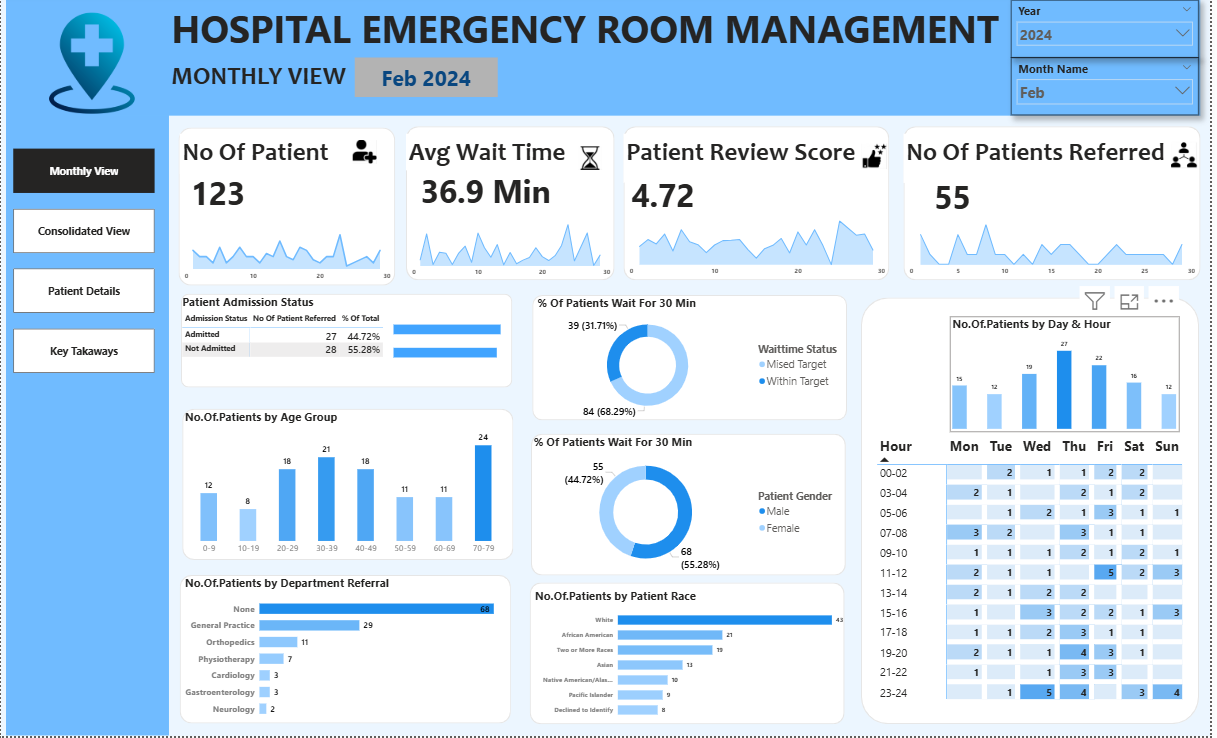

The dashboard page shown, as its layout file describes it:
{"tool":"powerbi","page":{"name":"Monthly View","canvas":[2300,1400],"ordinal":0},"visuals":[{"type":"shape","box":[10,0,310,1399],"z":0},{"type":"shape","box":[202.2,0,2079.2,220.4],"z":1000},{"type":"textbox","box":[319.4,0,1604.9,109.9],"z":2000},{"type":"textbox","box":[319.4,109.9,493.2,109.9],"z":3000},{"type":"shape","box":[337,243.7,412.2,300.7],"z":4000},{"type":"slicer","fields":{"Values":["Date Table.Year"]},"box":[1921.2,0,356.7,109.4],"z":5000},{"type":"slicer","fields":{"Values":["Date Table.Month Name"]},"box":[1921.2,109.4,356.7,109.4],"z":6000},{"type":"card","fields":{"Values":["hospital data.No.Of.Patients"]},"box":[337,326,150.4,77.8],"z":7000},{"type":"textbox","box":[339.6,254.1,313.7,75.2],"z":8000},{"type":"areaChart","fields":{"Category":["Date Table.Date.Variation.Date Hierarchy.Day"],"Y":["hospital data.No.Of.Patients"]},"box":[337.6,409,411.3,133.2],"z":9000},{"type":"card","fields":{"Values":["Min(Date Table.Month & Year)"]},"box":[674,108.9,272.2,75.2],"z":10000},{"type":"shape","box":[770,241.1,396.6,292.9],"z":11000},{"type":"card","fields":{"Values":["hospital data.Avg Waiting Time"]},"box":[770,329.2,303.3,64.8],"z":12000},{"type":"textbox","box":[770,254.1,326.7,70],"z":13000},{"type":"areaChart","fields":{"Y":["Avg(hospital data.Patient Waittime)"],"Category":["Date Table.Date.Variation.Date Hierarchy.Day"]},"box":[770,388.9,396.6,145.2],"z":14000},{"type":"shape","box":[1184.8,241.1,505.5,292.9],"z":15000},{"type":"card","fields":{"Values":["hospital data.P. Review Score"]},"box":[1184.8,329.2,150.4,77.8],"z":16000},{"type":"textbox","box":[1184.1,254.4,451.8,92.7],"z":17000},{"type":"areaChart","fields":{"Category":["Date Table.Date.Variation.Date Hierarchy.Day"],"Y":["hospital data.P. Review Score"]},"box":[1184.8,407,505.5,127],"z":18000},{"type":"shape","box":[1716.2,241.1,565.2,292.9],"z":19000},{"type":"card","fields":{"Values":["hospital data.No Of Patient Referred"]},"box":[1716.2,331.8,186.7,77.8],"z":20000},{"type":"textbox","box":[1716.2,254.1,502.9,93.3],"z":21000},{"type":"areaChart","fields":{"Category":["Date Table.Date.Variation.Date Hierarchy.Day"],"Y":["hospital data.No Of Patient Referred"]},"box":[1716.2,414.8,562.6,119.3],"z":22000},{"type":"shape","box":[342.4,558.8,630.1,178.3],"z":23000},{"type":"pivotTable","title":"Patient Admission Status ","fields":{"Rows":["hospital data.Admission Status"],"Values":["hospital data.No Of Patient Referred","hospital data.No.Of.Patients"]},"box":[340,558.8,627.7,171.2],"z":24000},{"type":"barChart","fields":{"Category":["hospital data.Admission Status"],"Y":["hospital data.No Of Patient Referred"]},"box":[741.9,582.5,228.3,128.4],"z":25000},{"type":"shape","box":[344.8,777.7,630,287.8],"z":26000},{"type":"clusteredColumnChart","fields":{"Category":["hospital data.Age Group"],"Y":["hospital data.No.Of.Patients"]},"box":[344.8,777.5,625.3,287.7],"z":27000},{"type":"shape","box":[339.6,1094,630,282.6],"z":28000},{"type":"clusteredBarChart","fields":{"Y":["hospital data.No.Of.Patients"],"Category":["hospital data.Department Referral"]},"box":[344.8,1093.8,623,282.9],"z":29000},{"type":"shape","box":[1011.1,560,598.9,238.5],"z":30000},{"type":"donutChart","title":"% Of Patients Wait For 30 Min","fields":{"Y":["hospital data.No.Of.Patients"],"Category":["hospital data.Waittime Status"]},"box":[1016.2,560,593.7,238.5],"z":31000},{"type":"shape","box":[1008.5,824.4,598.9,269.6],"z":32000},{"type":"donutChart","title":"% Of Patients Wait For 30 Min","fields":{"Y":["hospital data.No.Of.Patients"],"Category":["hospital data.Patient Gender"]},"box":[1008.5,824.4,593.7,269.6],"z":33000},{"type":"shape","box":[1005.9,1107,598.9,269.6],"z":34000},{"type":"clusteredBarChart","fields":{"Y":["hospital data.No.Of.Patients"],"Category":["hospital data.Patient Race"]},"box":[1011.1,1117.4,598.9,259.2],"z":35000},{"type":"shape","box":[1635.8,565.2,642.9,811.4],"z":36000},{"type":"pivotTable","fields":{"Rows":["hospital data.Waittime Interval"],"Columns":["Date Table.Day Name"],"Values":["hospital data.No.Of.Patients"]},"box":[1661.8,824.4,604,523.7],"z":37000},{"type":"columnChart","title":"No.Of.Patients by Day & Hour","fields":{"Category":["Date Table.Day Name"],"Y":["hospital data.No.Of.Patients"]},"box":[1804.4,601.5,438.1,220.4],"z":38000},{"type":"image","box":[23.3,18.1,298.1,202.2],"z":39000},{"type":"image","box":[661.1,261.8,62.2,54.4],"z":40000},{"type":"image","box":[1094,254.1,54.4,93.3],"z":41000},{"type":"image","box":[1630.7,254.1,59.6,85.6],"z":42000},{"type":"image","box":[2221.7,259.2,59.6,70],"z":43000},{"type":"pageNavigator","box":[23.8,282.9,268.7,428],"z":44000}]}

Visuals, with their boxes in screenshot pixels (x1, y1, x2, y2), scaled from the page's 2300x1400 canvas onto the 1217x738 screenshot:
shape: <bbox>5, 0, 169, 737</bbox>
shape: <bbox>107, 0, 1207, 116</bbox>
textbox: <bbox>169, 0, 1018, 58</bbox>
textbox: <bbox>169, 58, 430, 116</bbox>
shape: <bbox>178, 128, 396, 287</bbox>
slicer - Date Table.Year: <bbox>1017, 0, 1205, 58</bbox>
slicer - Date Table.Month Name: <bbox>1017, 58, 1205, 115</bbox>
card - hospital data.No.Of.Patients: <bbox>178, 172, 258, 213</bbox>
textbox: <bbox>180, 134, 346, 174</bbox>
areaChart - Date Table.Date.Variation.Date Hierarchy.Day x hospital data.No.Of.Patients: <bbox>179, 216, 396, 286</bbox>
card - Min(Date Table.Month & Year): <bbox>357, 57, 501, 97</bbox>
shape: <bbox>407, 127, 617, 281</bbox>
card - hospital data.Avg Waiting Time: <bbox>407, 174, 568, 208</bbox>
textbox: <bbox>407, 134, 580, 171</bbox>
areaChart - Avg(hospital data.Patient Waittime) x Date Table.Date.Variation.Date Hierarchy.Day: <bbox>407, 205, 617, 282</bbox>
shape: <bbox>627, 127, 894, 281</bbox>
card - hospital data.P. Review Score: <bbox>627, 174, 706, 215</bbox>
textbox: <bbox>627, 134, 866, 183</bbox>
areaChart - Date Table.Date.Variation.Date Hierarchy.Day x hospital data.P. Review Score: <bbox>627, 215, 894, 281</bbox>
shape: <bbox>908, 127, 1207, 281</bbox>
card - hospital data.No Of Patient Referred: <bbox>908, 175, 1007, 216</bbox>
textbox: <bbox>908, 134, 1174, 183</bbox>
areaChart - Date Table.Date.Variation.Date Hierarchy.Day x hospital data.No Of Patient Referred: <bbox>908, 219, 1206, 282</bbox>
shape: <bbox>181, 295, 515, 389</bbox>
"Patient Admission Status " pivotTable: <bbox>180, 295, 512, 385</bbox>
barChart - hospital data.Admission Status x hospital data.No Of Patient Referred: <bbox>393, 307, 513, 375</bbox>
shape: <bbox>182, 410, 516, 562</bbox>
clusteredColumnChart - hospital data.Age Group x hospital data.No.Of.Patients: <bbox>182, 410, 513, 562</bbox>
shape: <bbox>180, 577, 513, 726</bbox>
clusteredBarChart - hospital data.No.Of.Patients x hospital data.Department Referral: <bbox>182, 577, 512, 726</bbox>
shape: <bbox>535, 295, 852, 421</bbox>
"% Of Patients Wait For 30 Min" donutChart: <bbox>538, 295, 852, 421</bbox>
shape: <bbox>534, 435, 851, 577</bbox>
"% Of Patients Wait For 30 Min" donutChart: <bbox>534, 435, 848, 577</bbox>
shape: <bbox>532, 584, 849, 726</bbox>
clusteredBarChart - hospital data.No.Of.Patients x hospital data.Patient Race: <bbox>535, 589, 852, 726</bbox>
shape: <bbox>866, 298, 1206, 726</bbox>
pivotTable - hospital data.Waittime Interval x Date Table.Day Name: <bbox>879, 435, 1199, 711</bbox>
"No.Of.Patients by Day & Hour" columnChart: <bbox>955, 317, 1187, 433</bbox>
image: <bbox>12, 10, 170, 116</bbox>
image: <bbox>350, 138, 383, 167</bbox>
image: <bbox>579, 134, 608, 183</bbox>
image: <bbox>863, 134, 894, 179</bbox>
image: <bbox>1176, 137, 1207, 174</bbox>
pageNavigator: <bbox>13, 149, 155, 375</bbox>
